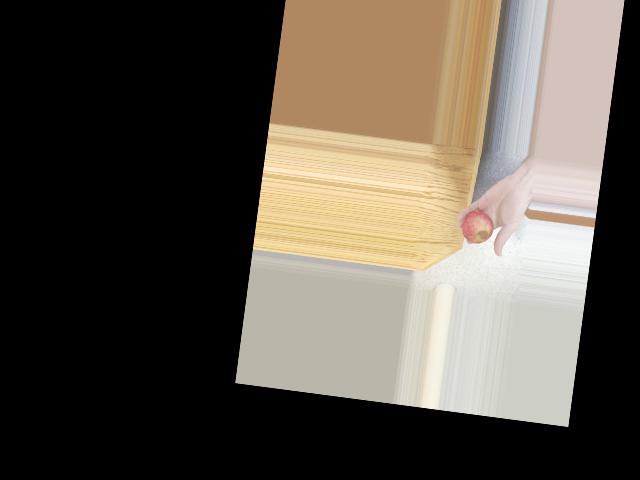apple: (460, 206, 498, 246)
